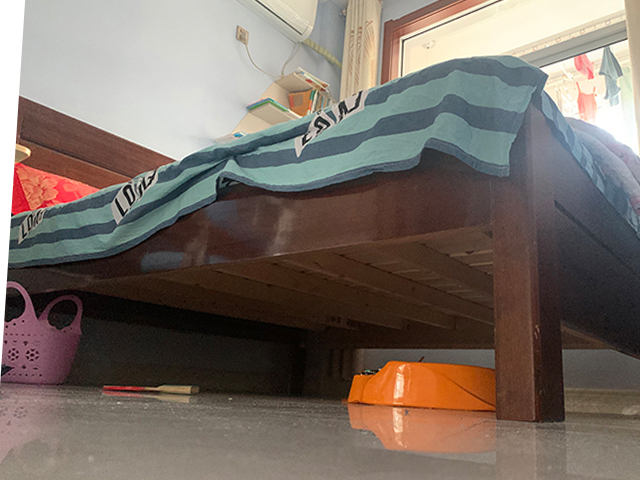bed: (9, 52, 640, 425)
